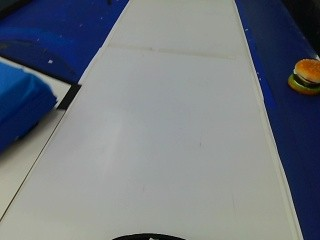burger: (284, 55, 318, 98)
